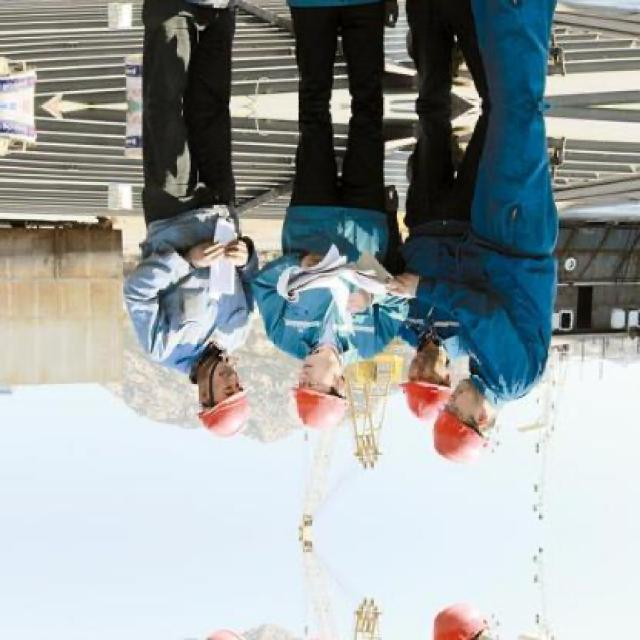con casco: (164, 323, 256, 441), (287, 349, 372, 441), (427, 398, 530, 472), (395, 340, 466, 424)
